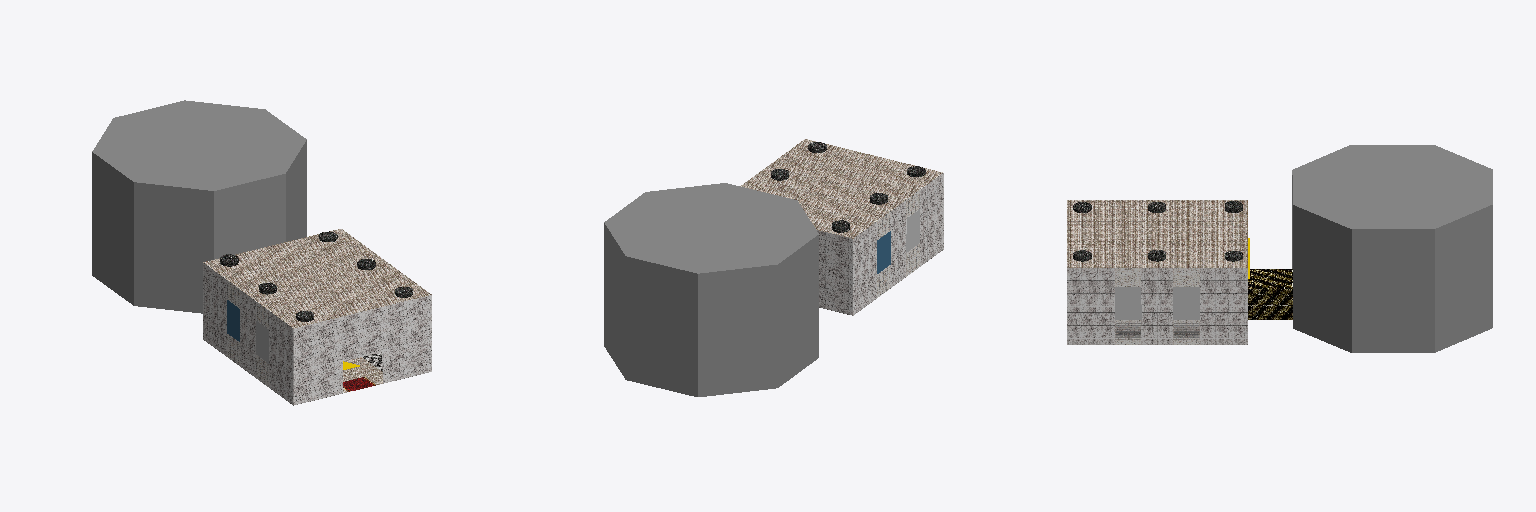
3 views of the same model, side by side, from view 1: azimuth 30°, elevation 25°; view 2: azimuth 150°, elevation 25°; view 3: azimuth 270°, elevation 25° (orthographic).
Parts seen in each view (by area): view 1: Sword_Room, Ceiling, Front_Wall, LeftWall, Floor; view 2: Sword_Room, Ceiling, LeftWall, BackWall; view 3: Sword_Room, RightWall, Ceiling, Connector, Window4, Window3.
Boxes of the visible parts, box(x1,y1,x2,y2) form: Sword_Room: box(92, 100, 306, 313); Ceiling: box(203, 229, 431, 328); Front_Wall: box(293, 295, 431, 405); LeftWall: box(203, 263, 292, 404); Floor: box(343, 352, 382, 392); Sword_Room: box(604, 183, 818, 396); Ceiling: box(740, 139, 942, 238); LeftWall: box(853, 173, 943, 315); BackWall: box(817, 230, 852, 315); Sword_Room: box(1292, 145, 1492, 352); RightWall: box(1067, 268, 1247, 344); Ceiling: box(1067, 200, 1247, 267); Connector: box(1248, 269, 1292, 319); Window4: box(1173, 287, 1199, 319); Window3: box(1115, 287, 1141, 319).
Size of the model in its own units: 113 by 85.86 by 240.
12 materials, 6 textured.